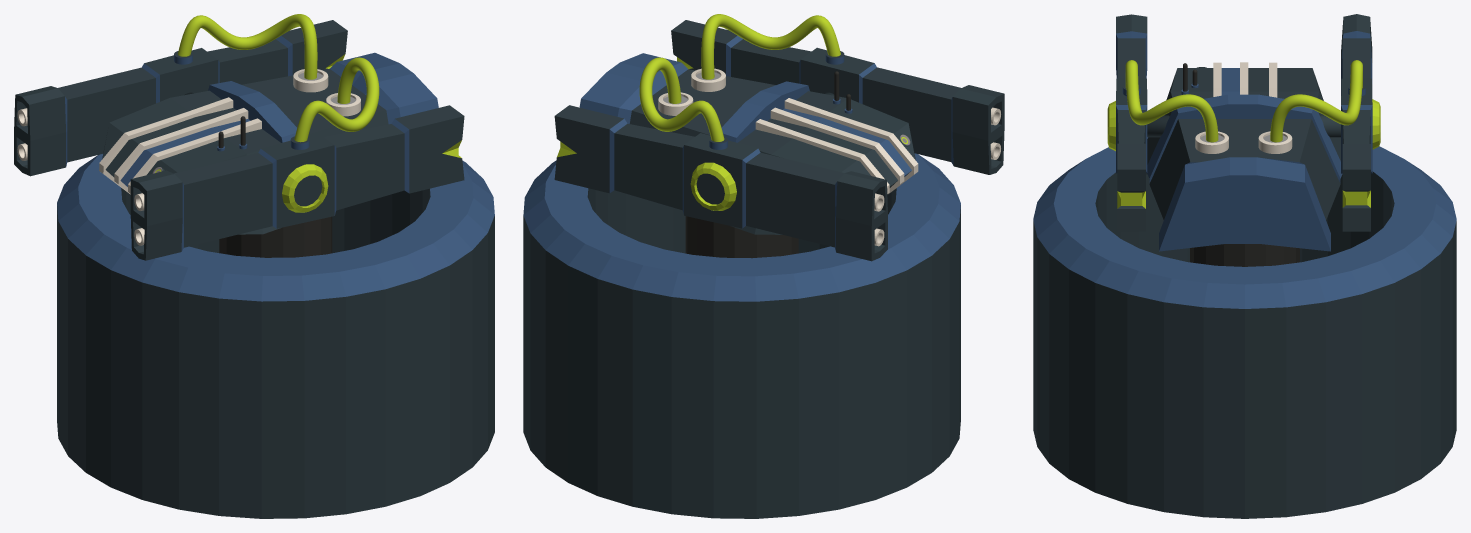
The model's file is turretFBX.fbx.
The picture shows the model from 3 angles, left to right: view 1: azimuth 30°, elevation 25°; view 2: azimuth 150°, elevation 25°; view 3: azimuth 270°, elevation 25°; orthographic projection. The views are drawn at different scales.
Parts seen in each view (by area): view 1: Socket, LCannon, TurretCore, RCannon, RPipe, LPipe; view 2: Socket, RCannon, TurretCore, LCannon, LPipe, RPipe; view 3: Socket, TurretCore, LCannon, RCannon, LPipe, RPipe.
Boxes of the visible parts, x1,y1,x2,y2 form: Socket: [57, 154, 494, 518]; LCannon: [130, 105, 464, 260]; TurretCore: [99, 51, 438, 234]; RCannon: [14, 20, 347, 176]; RPipe: [178, 14, 317, 79]; LPipe: [294, 57, 379, 142]; Socket: [523, 153, 960, 518]; RCannon: [554, 105, 887, 261]; TurretCore: [579, 51, 918, 234]; LCannon: [671, 20, 1004, 174]; LPipe: [701, 14, 840, 79]; RPipe: [639, 57, 724, 141]; Socket: [1033, 137, 1456, 518]; TurretCore: [1122, 62, 1365, 251]; LCannon: [1107, 14, 1147, 231]; RCannon: [1341, 14, 1380, 231]; LPipe: [1125, 60, 1218, 142]; RPipe: [1270, 60, 1362, 142].
Size of the model in its own units: 8.92 by 8.27 by 8.77.
